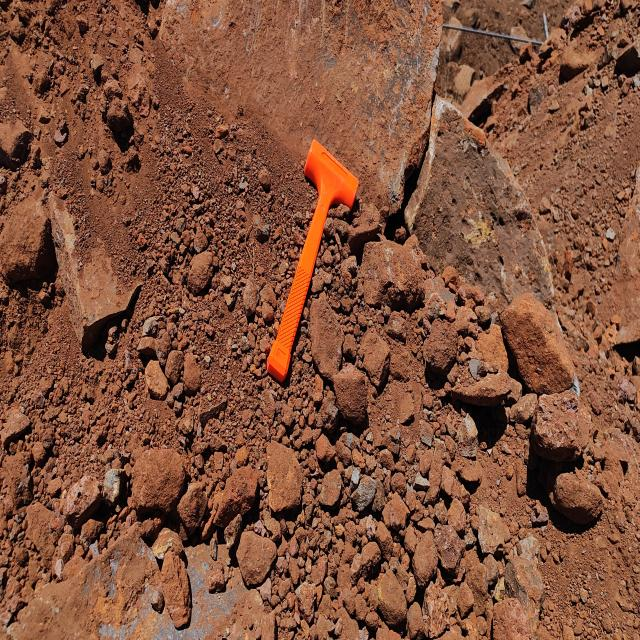Orange_hammer: (266, 137, 360, 384)
